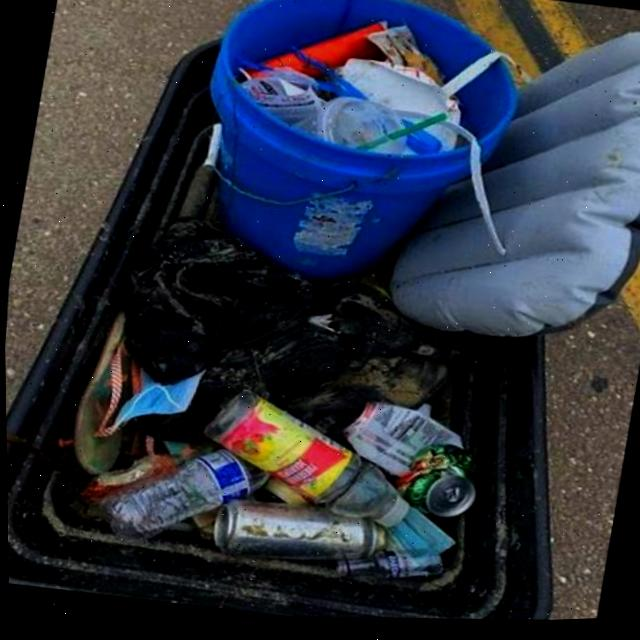Garbage: (60, 0, 640, 589)
Mask: (93, 370, 199, 436), (383, 512, 451, 560)
Plastic: (209, 0, 489, 283), (387, 41, 640, 343), (457, 71, 516, 165)
Plastic_Glass: (295, 101, 400, 151), (372, 142, 411, 158)
Plastic_Straw: (355, 119, 446, 154)
Plastic_bottle: (100, 452, 264, 541), (335, 555, 438, 584), (331, 556, 405, 583), (417, 571, 439, 581)
can: (340, 408, 473, 523), (209, 502, 383, 565), (391, 451, 473, 522)
